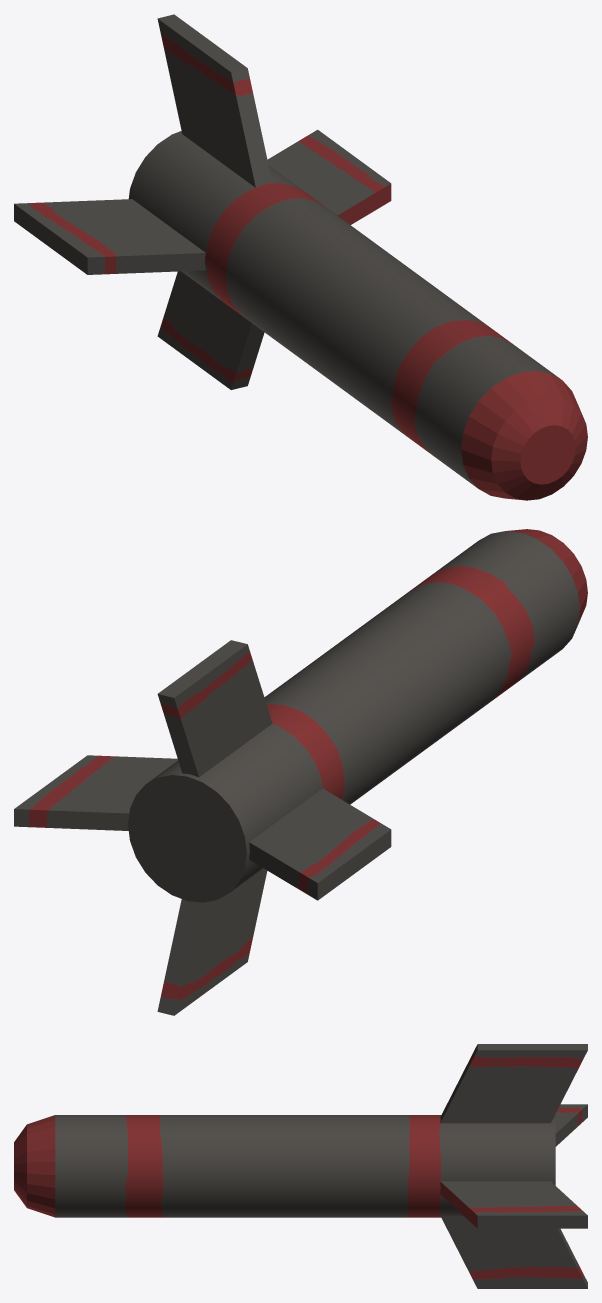
File: Missile.fbx
3 views of the same model, one above another, from view 1: azimuth 30°, elevation 25°; view 2: azimuth 150°, elevation 25°; view 3: azimuth 270°, elevation 25° (orthographic). The views are drawn at different scales.
Parts seen in each view (by area): view 1: Missile_Head, Missile_tail; view 2: Missile_Head, Missile_tail; view 3: Missile_Head, Missile_tail.
Boxes of the visible parts, x1,y1,x2,y2 form: Missile_Head: [128, 131, 587, 500]; Missile_tail: [14, 14, 391, 389]; Missile_Head: [128, 529, 587, 902]; Missile_tail: [14, 640, 391, 1015]; Missile_Head: [14, 1115, 555, 1217]; Missile_tail: [440, 1044, 587, 1288].
Bounding box in the file's own units: 35.91 × 35.91 × 78.28.
1 material, 1 textured.
